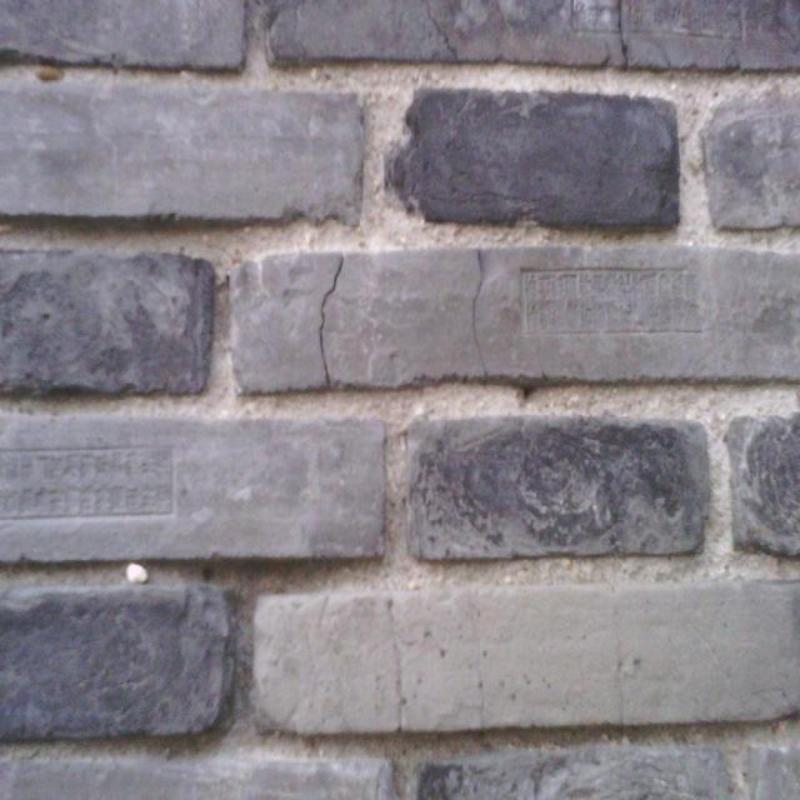crack: (319, 255, 344, 386), (473, 251, 488, 378), (428, 7, 460, 61), (618, 2, 630, 68), (522, 386, 535, 398)
